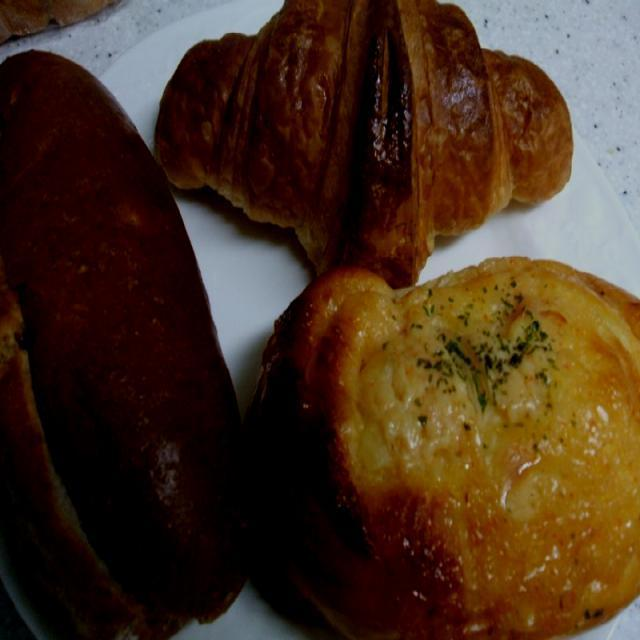chip-butty: (220, 242, 639, 639)
